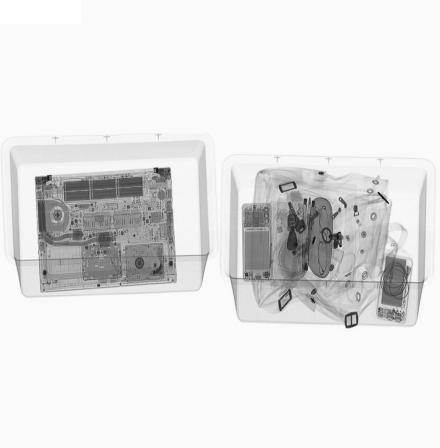Powerbank: (375, 252, 413, 325)
